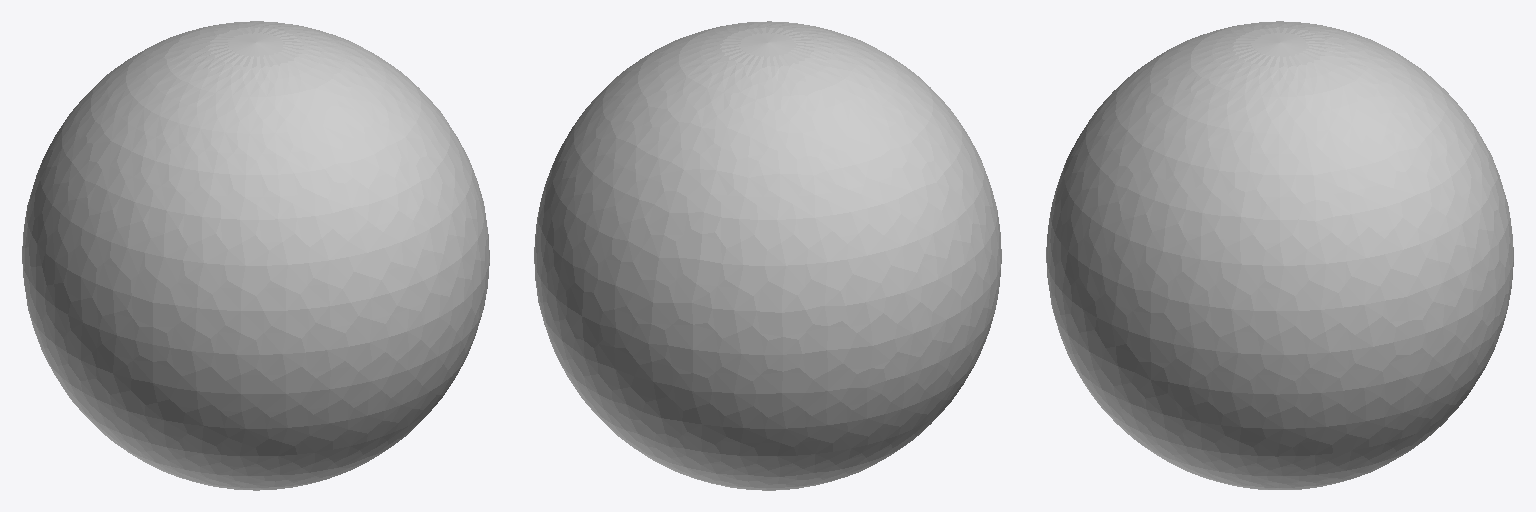
Rendered from qiu.obj.
The picture shows the model from 3 angles: view 1: azimuth 30°, elevation 25°; view 2: azimuth 150°, elevation 25°; view 3: azimuth 270°, elevation 25°; orthographic projection.
Visible parts, largest first — view 1: Sphere; view 2: Sphere; view 3: Sphere.
Part boxes in pixels (bbox=[...]): Sphere: bbox=[22, 21, 489, 490]; Sphere: bbox=[534, 21, 1001, 490]; Sphere: bbox=[1046, 21, 1513, 489].
Size of the model in its own units: 1.99 by 2 by 1.99.